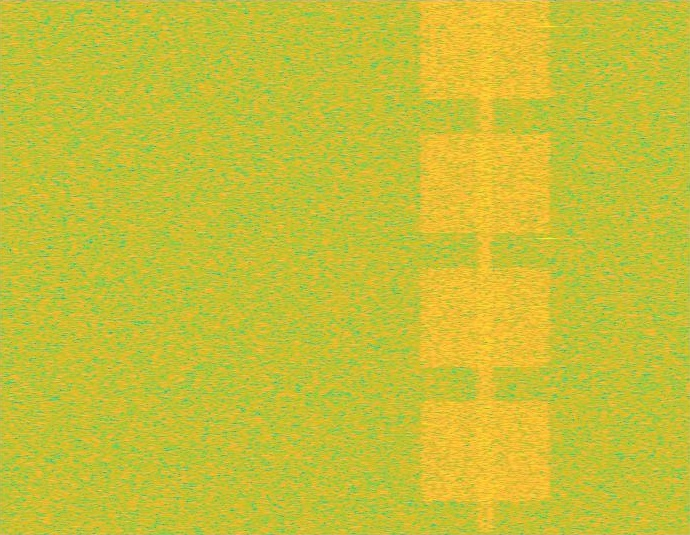5G: (417, 0, 555, 534)
DSSS: (476, 0, 495, 534)
Radar: (541, 0, 554, 534)
